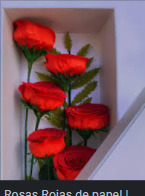RedRose: (13, 17, 56, 57), (63, 99, 112, 131), (53, 144, 97, 179), (17, 78, 63, 111), (44, 46, 89, 78), (24, 128, 67, 154)
